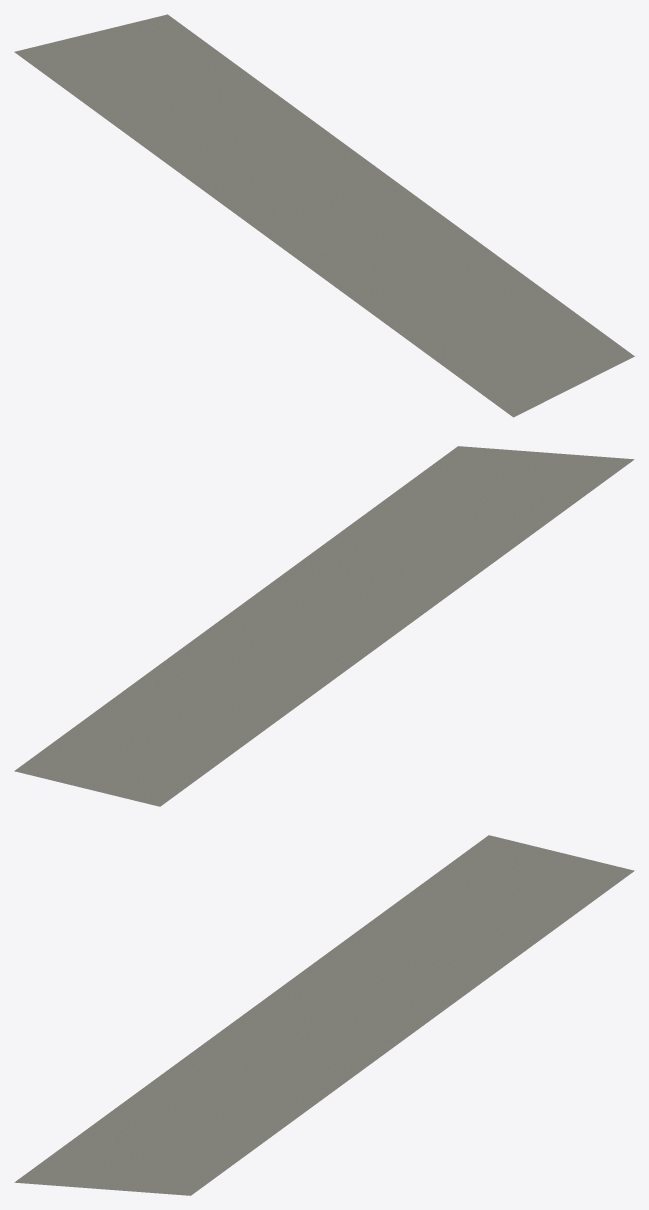
The model's file is kd_stage_135d18_0_5.glb.
3 views of the same model, one above another, from view 1: azimuth 30°, elevation 25°; view 2: azimuth 150°, elevation 25°; view 3: azimuth 330°, elevation 25° (orthographic). The views are drawn at different scales.
Parts seen in each view (by area): view 1: kd_stage_135d18_0_5; view 2: kd_stage_135d18_0_5; view 3: kd_stage_135d18_0_5.
Part boxes in pixels (bbox=[...]): kd_stage_135d18_0_5: bbox=[14, 14, 634, 417]; kd_stage_135d18_0_5: bbox=[14, 446, 634, 806]; kd_stage_135d18_0_5: bbox=[14, 835, 634, 1195].
Size of the model in its own units: 7.7 by 3.58e-06 by 43.35.
1 material, 1 textured.
